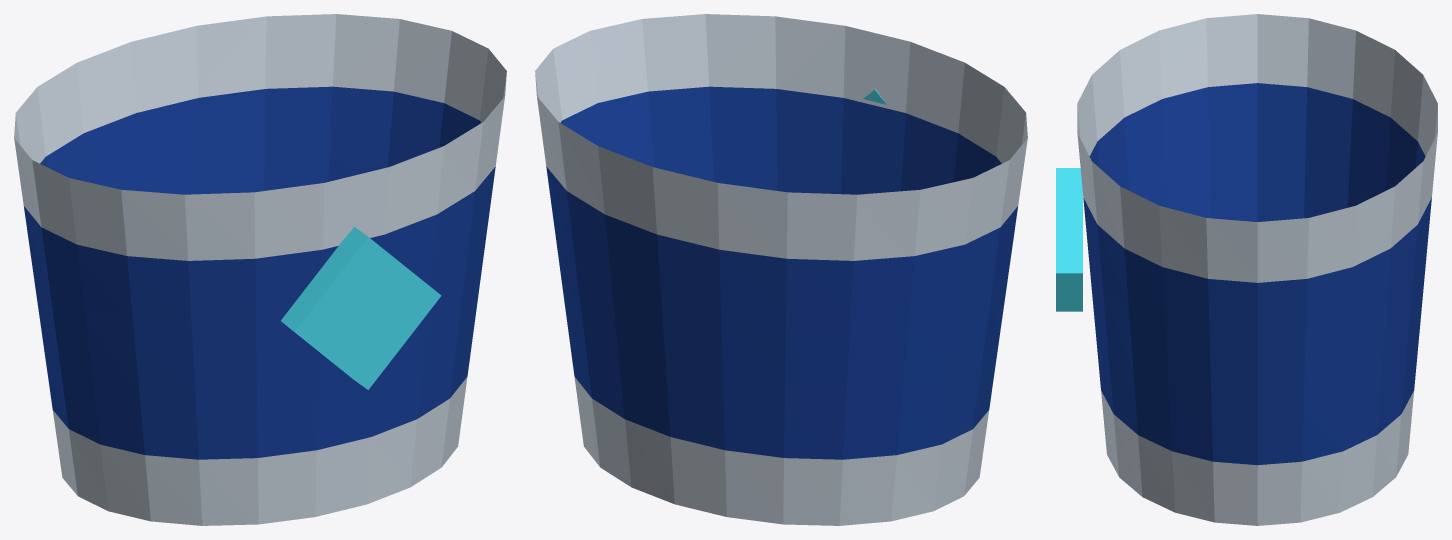
File: Skin_ValkyrieTop.obj
The picture shows the model from 3 angles, left to right: view 1: azimuth 30°, elevation 25°; view 2: azimuth 150°, elevation 25°; view 3: azimuth 270°, elevation 25°; orthographic projection. The views are drawn at different scales.
Visible parts, largest first — view 1: Skin_ValkyrieTop_BaseArmor, Skin_ValkyrieTop_TrimMetal, Skin_ValkyrieTop_EmissiveCore; view 2: Skin_ValkyrieTop_BaseArmor, Skin_ValkyrieTop_TrimMetal; view 3: Skin_ValkyrieTop_BaseArmor, Skin_ValkyrieTop_TrimMetal, Skin_ValkyrieTop_EmissiveCore.
Part boxes in pixels (x1,y1,x2,y2): Skin_ValkyrieTop_BaseArmor: [24, 86, 495, 459]; Skin_ValkyrieTop_TrimMetal: [14, 14, 506, 525]; Skin_ValkyrieTop_EmissiveCore: [281, 227, 441, 389]; Skin_ValkyrieTop_BaseArmor: [546, 86, 1017, 459]; Skin_ValkyrieTop_TrimMetal: [535, 14, 1027, 525]; Skin_ValkyrieTop_BaseArmor: [1083, 83, 1431, 465]; Skin_ValkyrieTop_TrimMetal: [1077, 14, 1437, 525]; Skin_ValkyrieTop_EmissiveCore: [1056, 168, 1082, 311].
Bounding box in the file's own units: 0.33 × 0.24 × 0.2558.
